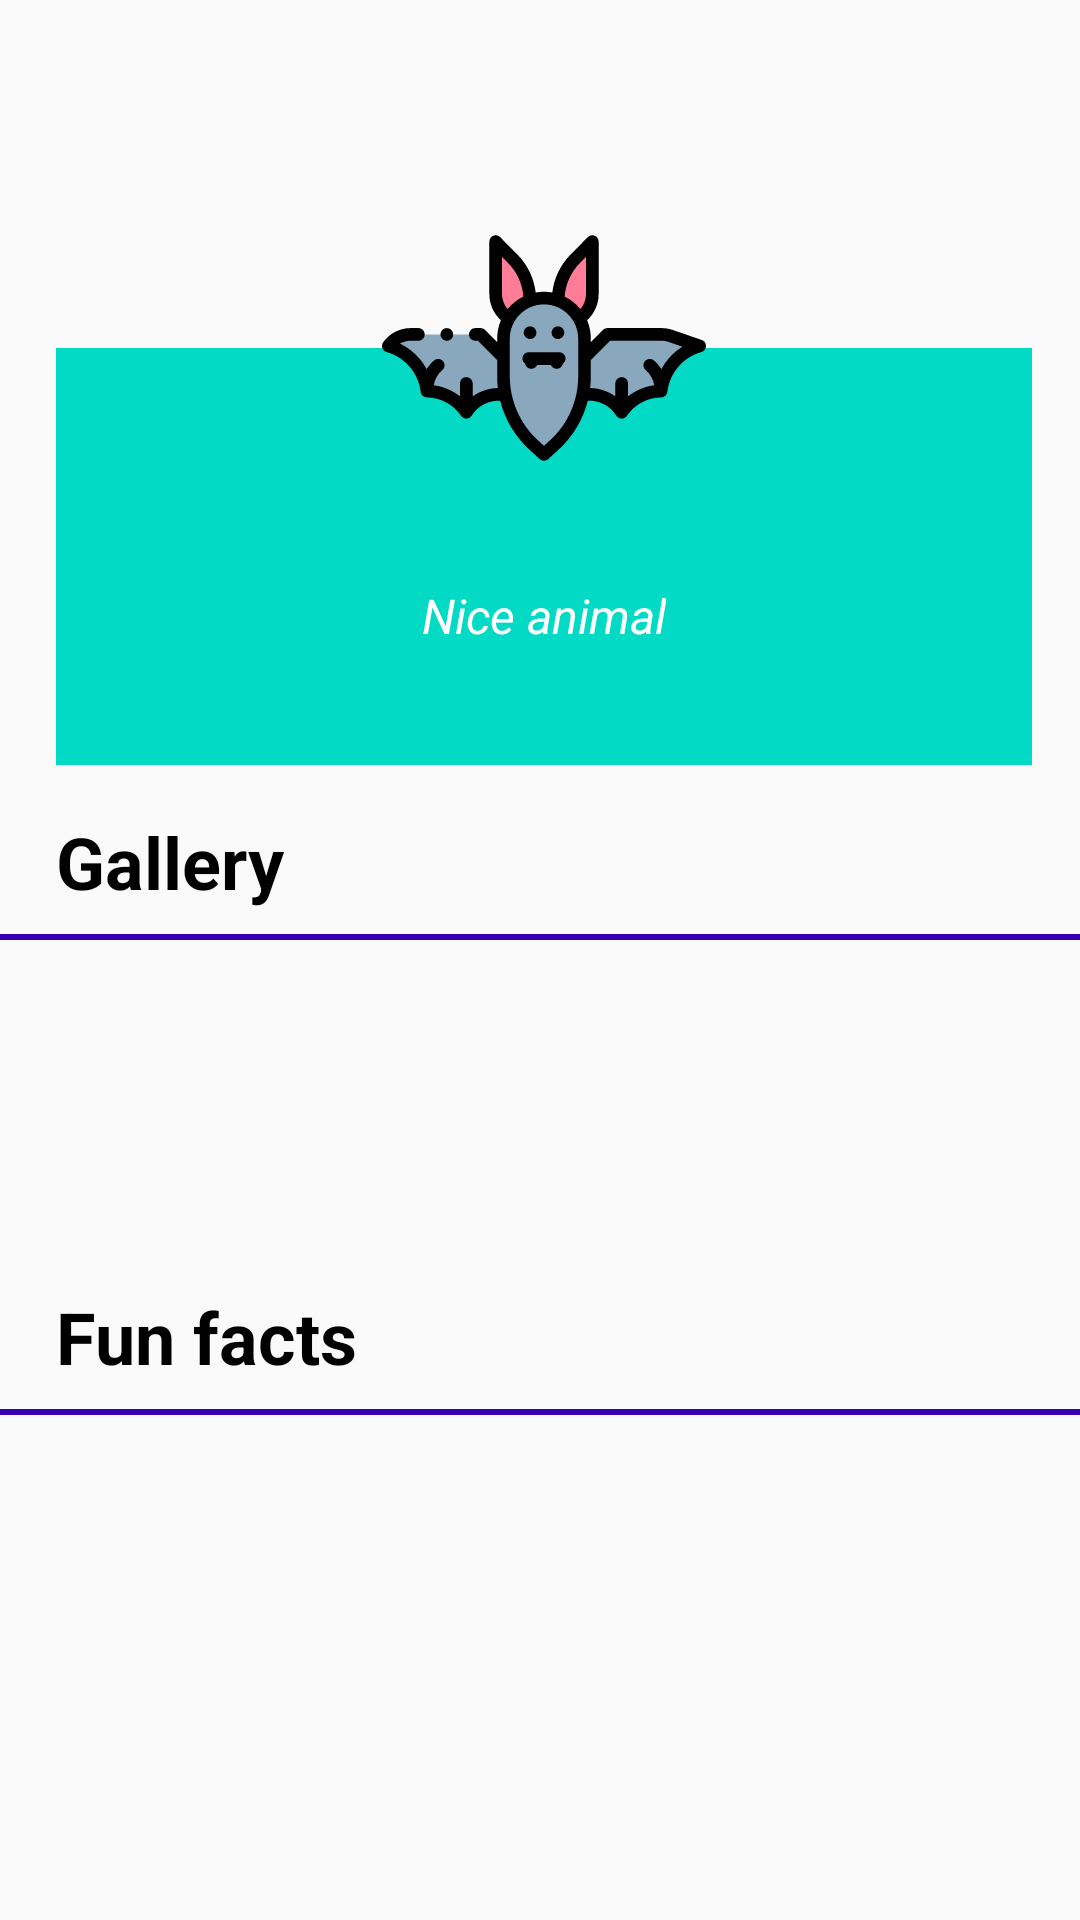

Screen size 1080 × 1920. Icon name, then its center in pixels as point (x, y):
bat: point (544, 348)
